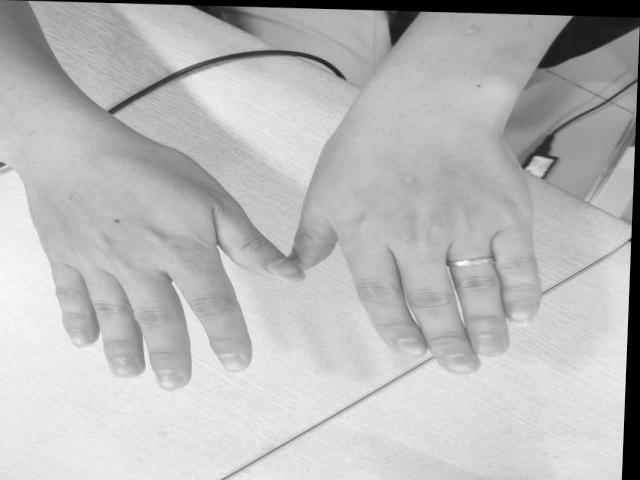not-gloved: (15, 134, 288, 386), (292, 141, 542, 365)
